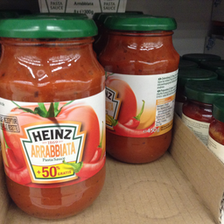tomato_sauce: (1, 15, 107, 219), (102, 14, 181, 164)
